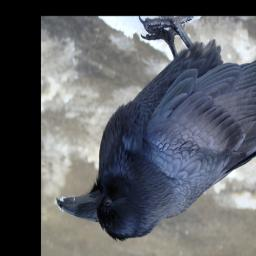Crow: (56, 17, 256, 241)
